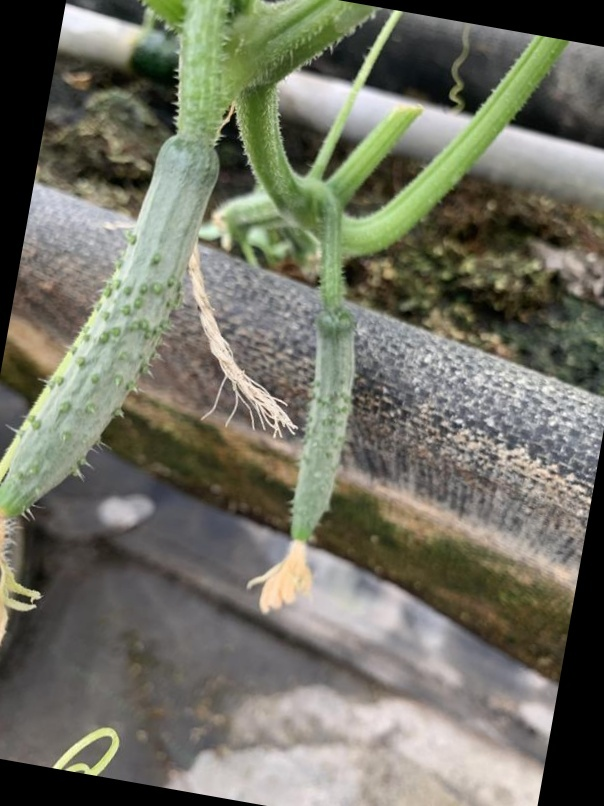bear: (255, 307, 366, 601)
growth: (0, 128, 226, 544)
